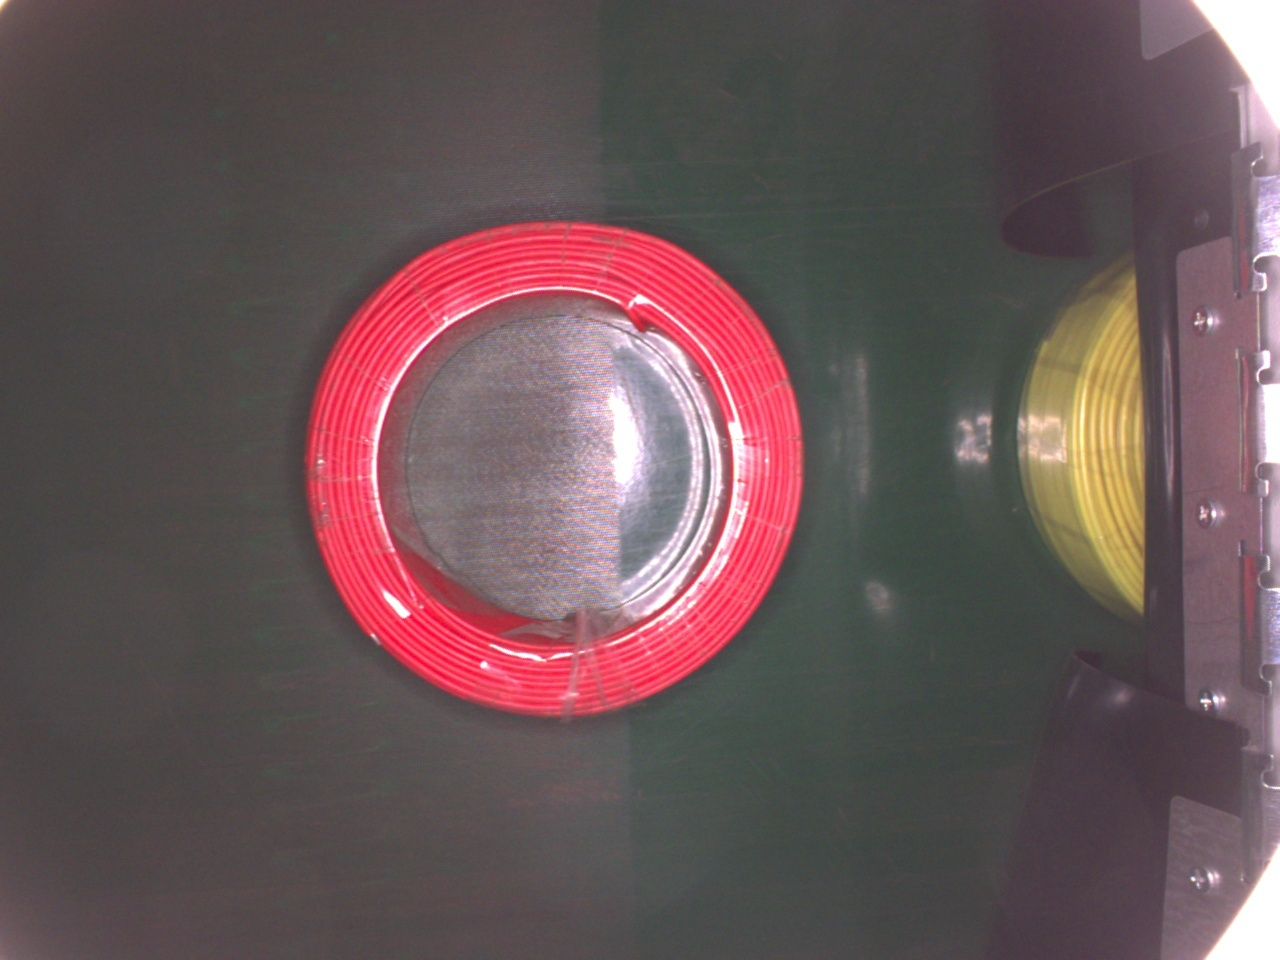red: (307, 217, 812, 729)
yellow: (1014, 257, 1151, 625)
